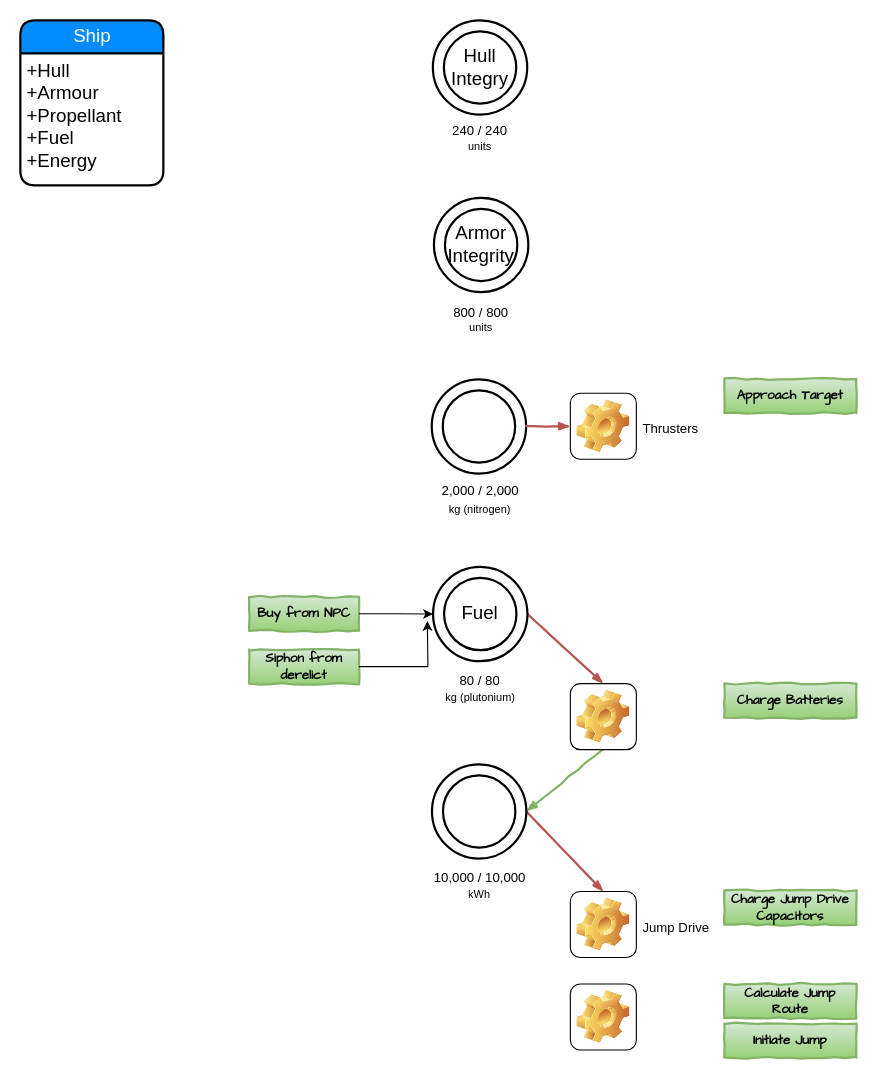
This 876x1077 diagram has some shape labels left out. Each missing label, with the centre of its shape:
"Energy" belongs at point (478, 811).
"Generator" belongs at point (602, 716).
"Navigation Console" belongs at point (602, 1016).
"Propellant" belongs at point (478, 426).
